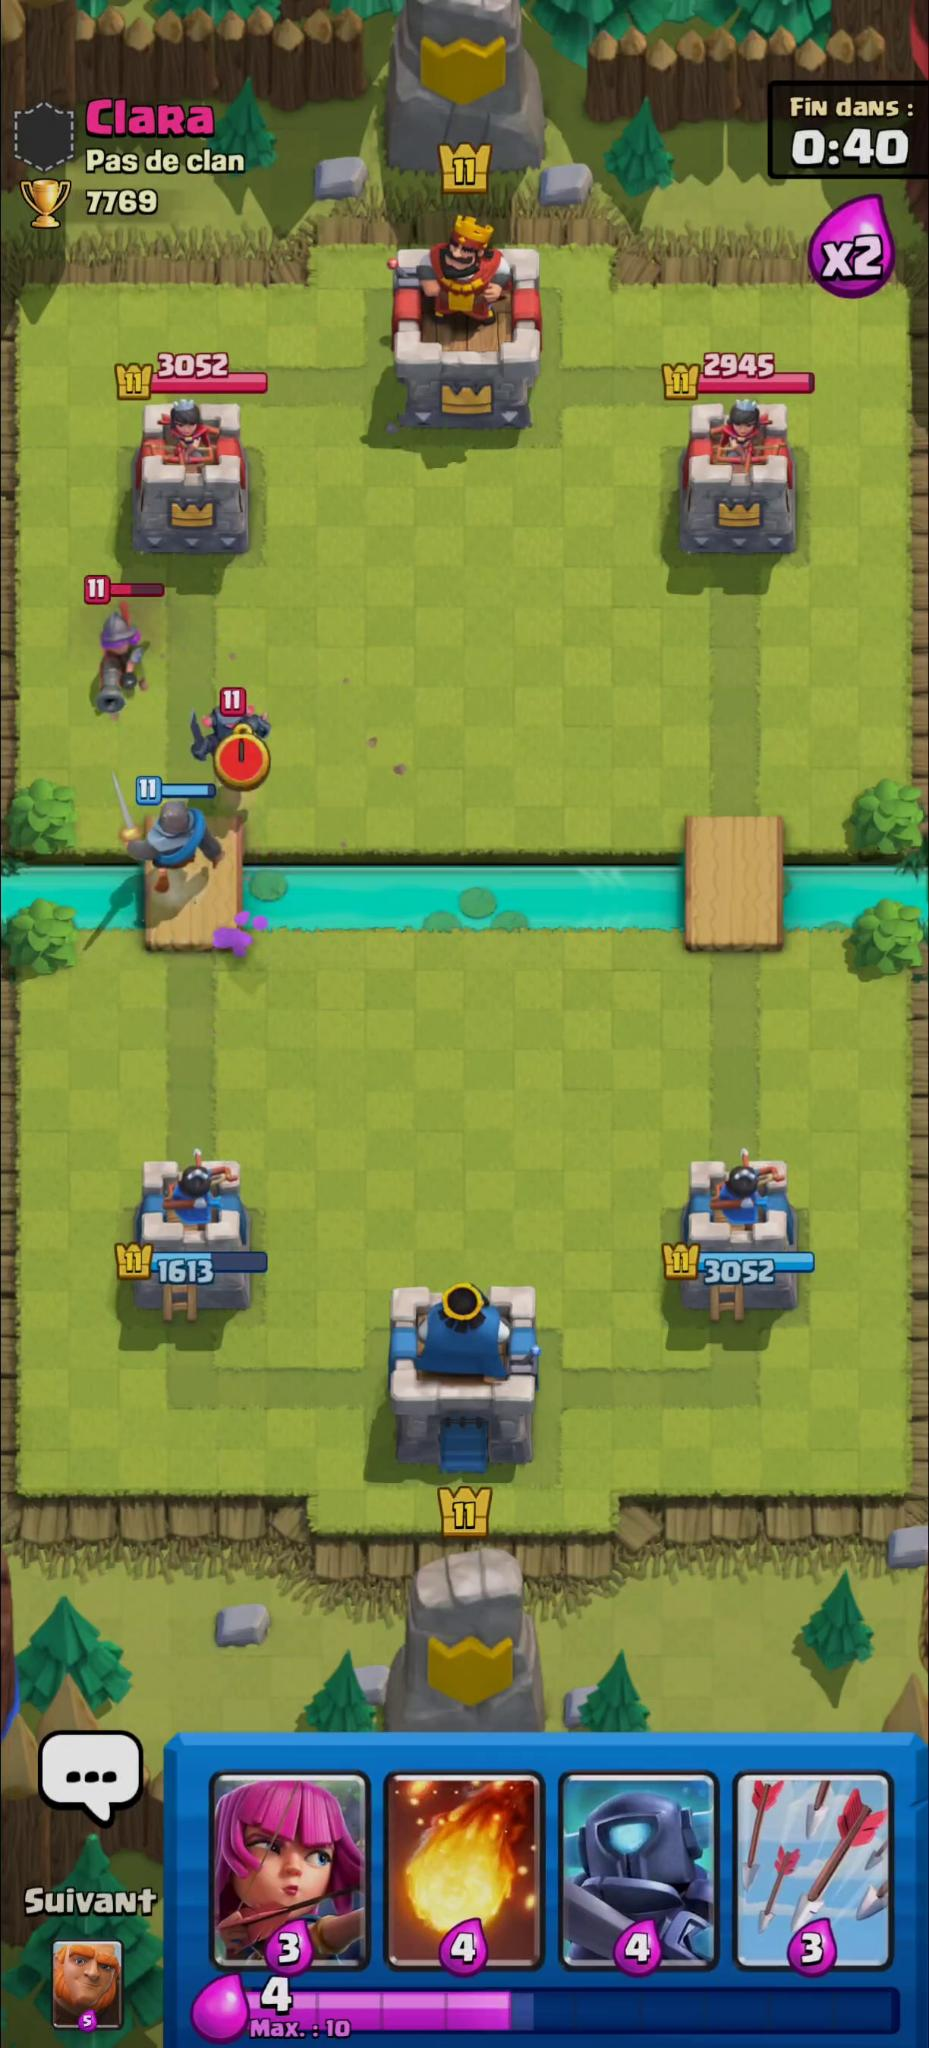chevalier: (107, 771, 226, 895)
mini_PEKKA: (189, 700, 273, 761)
mousquetaire: (91, 600, 153, 724)
